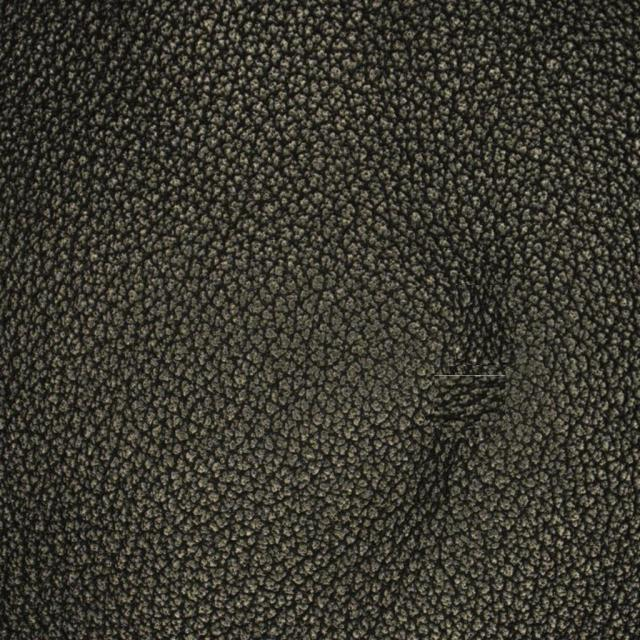Healed Injury: (381, 329, 554, 469)
